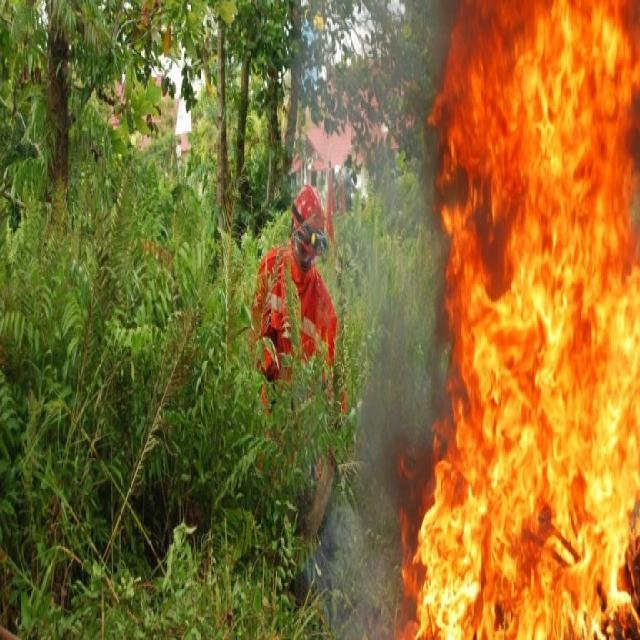fire: (442, 0, 640, 637)
